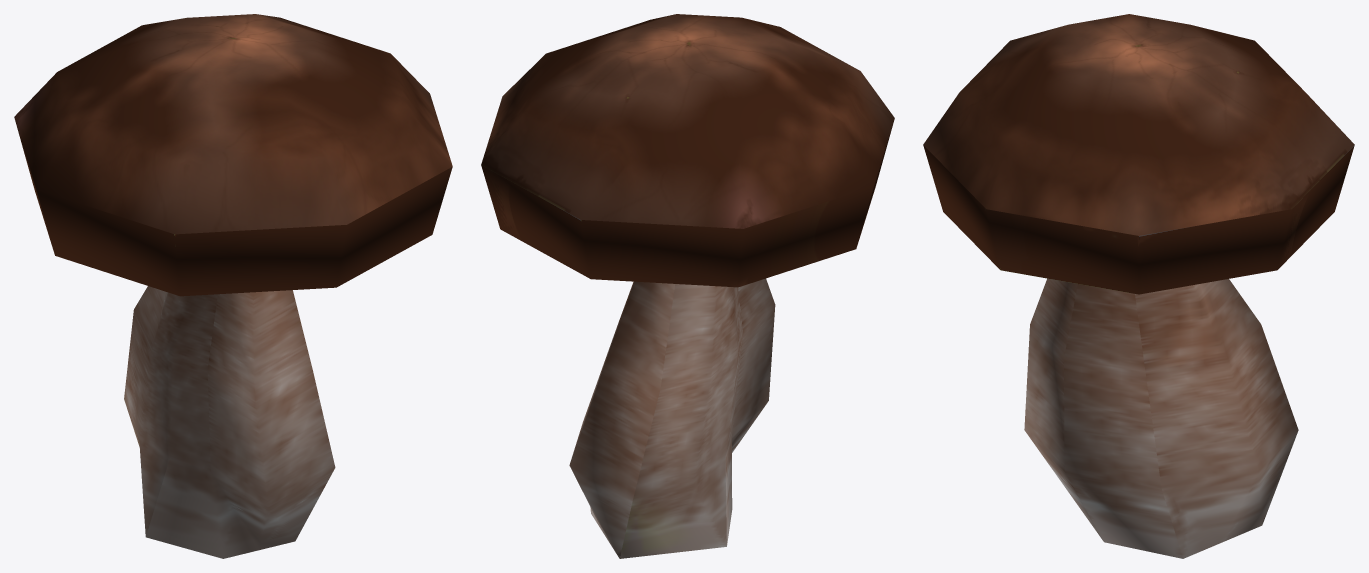
Rendered from mushroom4.gltf.
3 views of the same model, side by side, from view 1: azimuth 30°, elevation 25°; view 2: azimuth 150°, elevation 25°; view 3: azimuth 270°, elevation 25° (orthographic). The views are drawn at different scales.
Parts seen in each view (by area): view 1: shroom.005; view 2: shroom.005; view 3: shroom.005.
Boxes of the visible parts, bbox=[...] form: shroom.005: bbox=[14, 14, 452, 558]; shroom.005: bbox=[481, 14, 894, 558]; shroom.005: bbox=[923, 14, 1354, 558].
Size of the model in its own units: 0.0755 by 0.0922 by 0.0755.
Materials: 1 (1 with a texture image).
